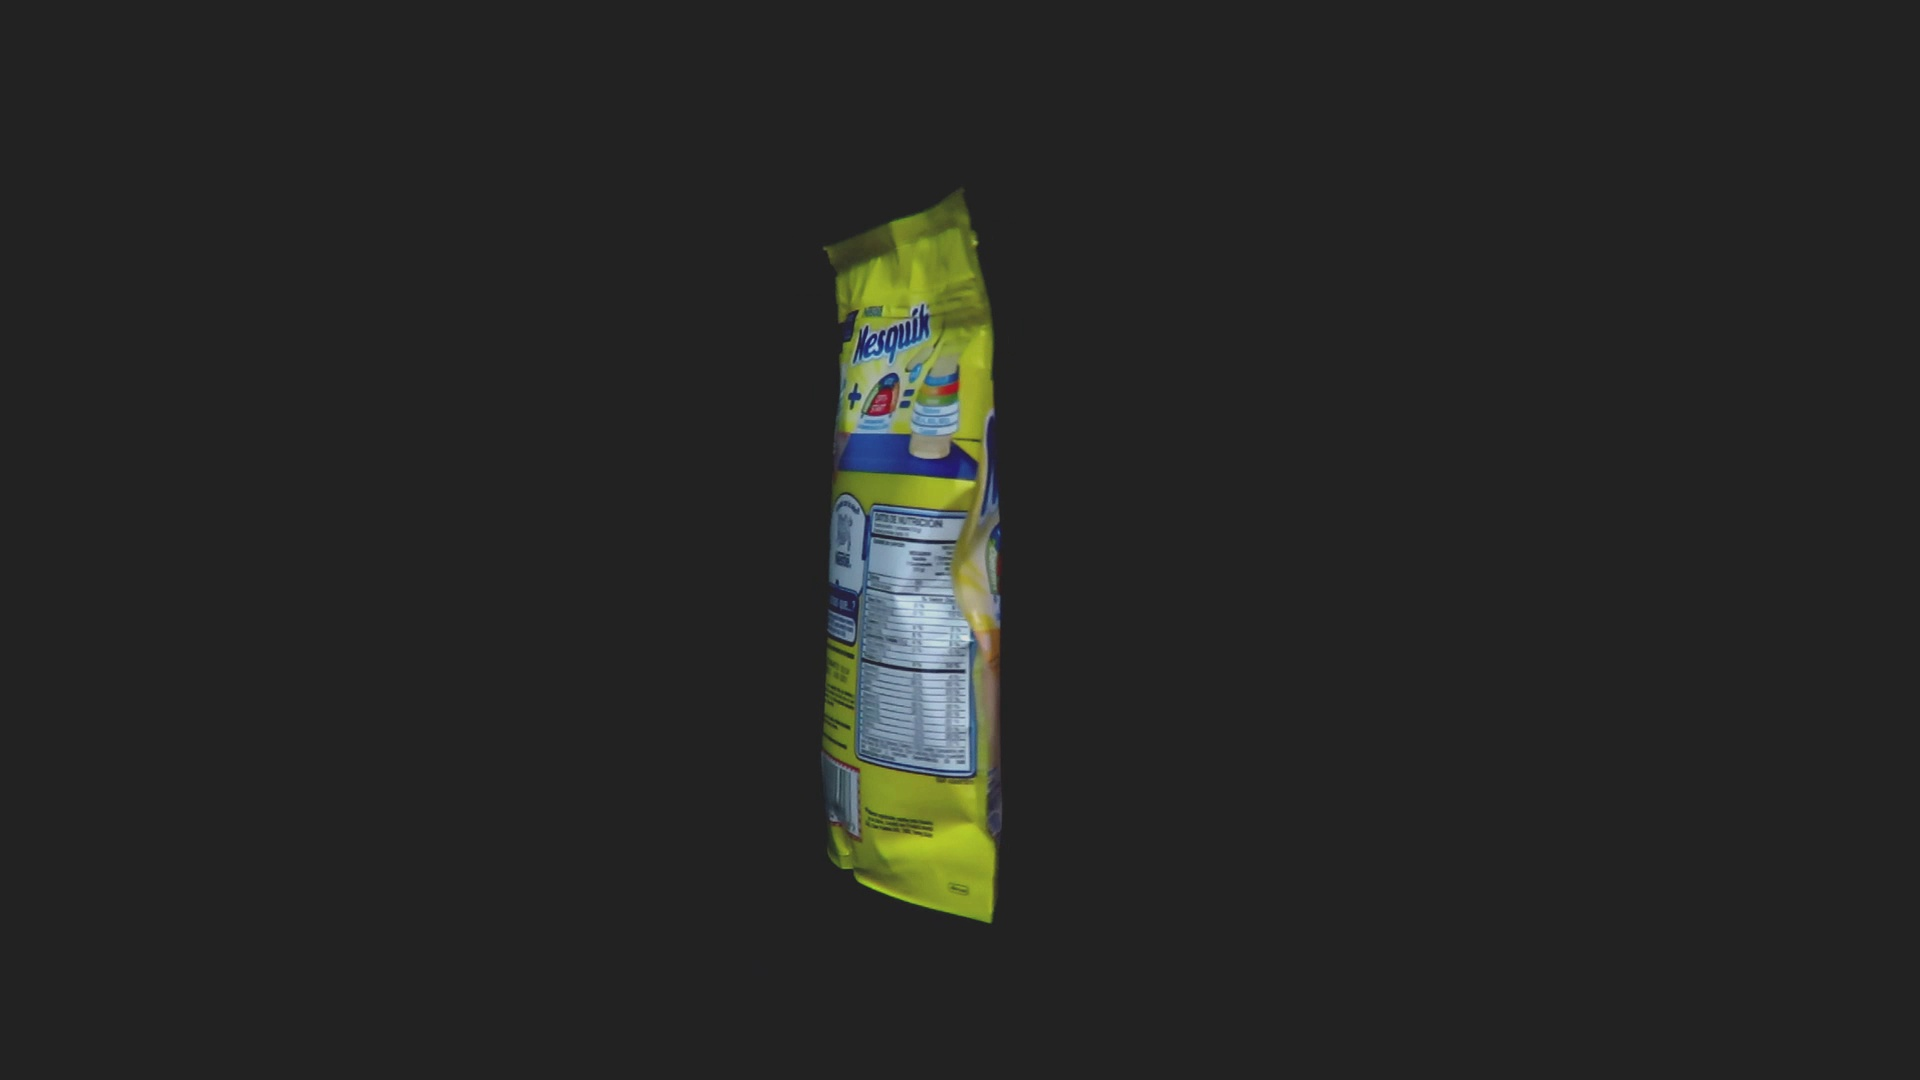COL0170306DYP20000: (816, 179, 1009, 928)
